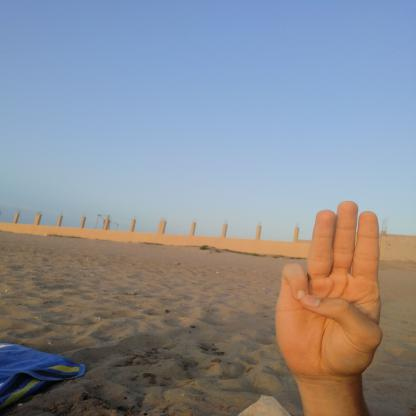THA: (260, 188, 398, 390)
